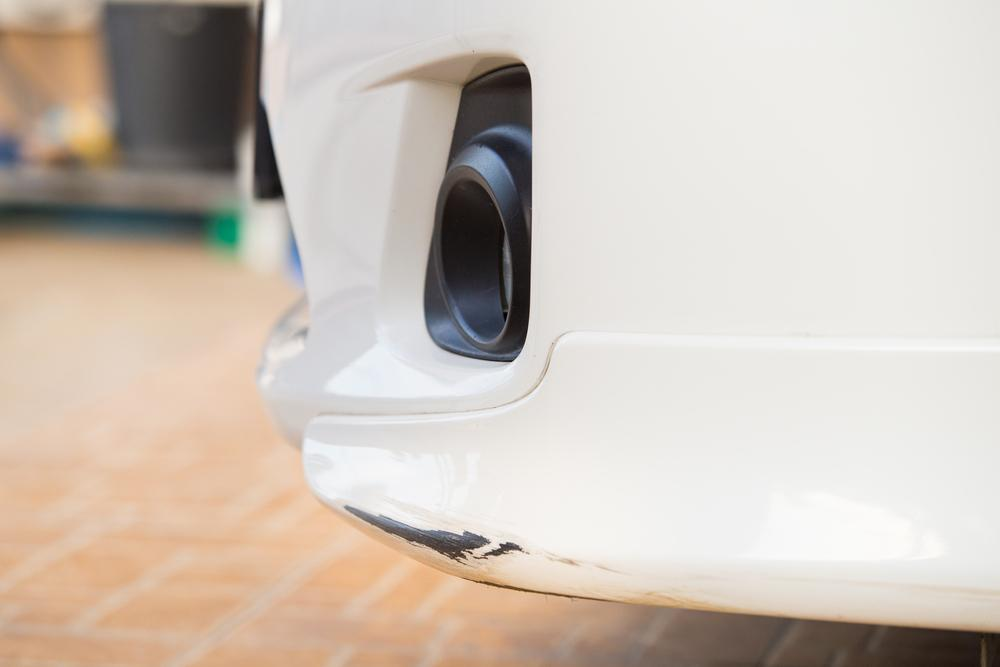scratch: (336, 497, 550, 573)
